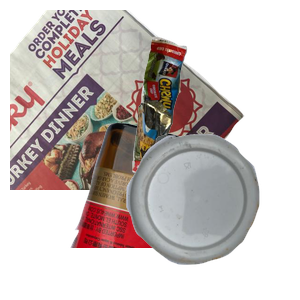glass: (68, 120, 255, 300)
paper: (10, 10, 247, 190)
plastic: (124, 132, 300, 300)
trash: (130, 34, 300, 203)
